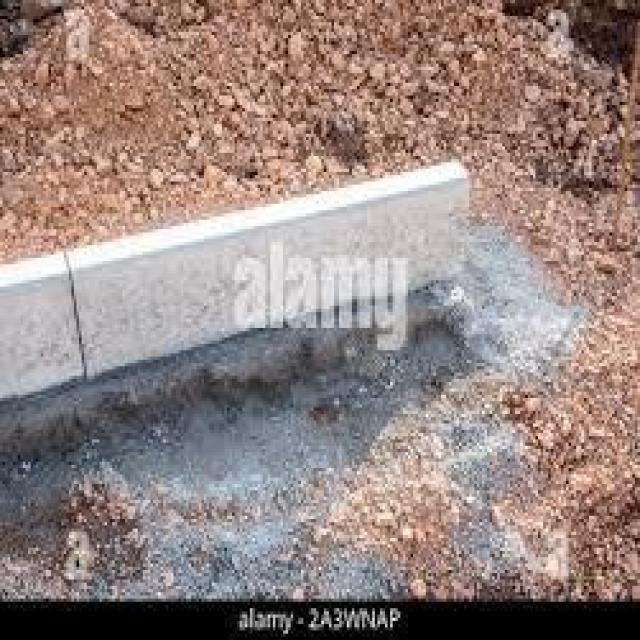curb: (1, 187, 480, 460)
